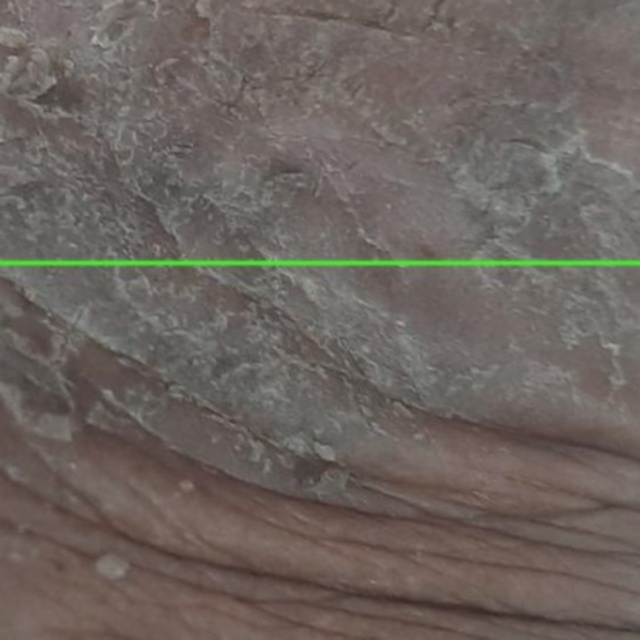Eczema: (0, 263, 639, 639)
